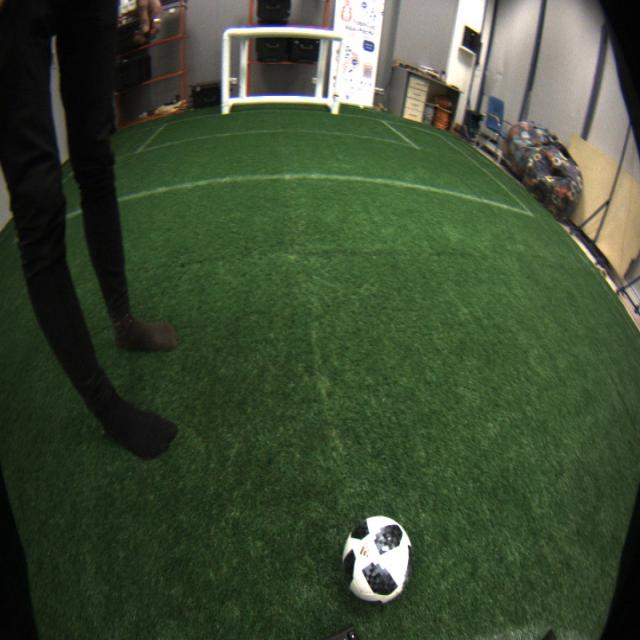ball: (342, 514, 414, 608)
goalpost: (330, 34, 348, 114), (220, 27, 232, 113)
